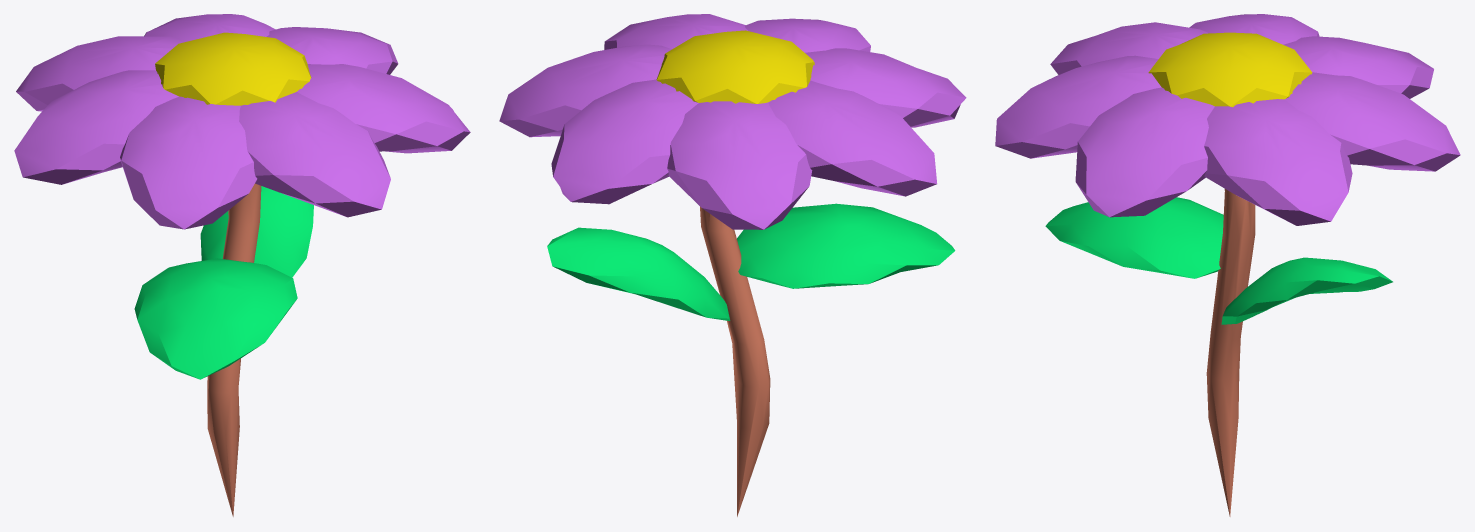
File: Flower.fbx
The picture shows the model from 3 angles, left to right: view 1: azimuth 30°, elevation 25°; view 2: azimuth 150°, elevation 25°; view 3: azimuth 270°, elevation 25°; orthographic projection.
Parts seen in each view (by area): view 1: Flower_LOD0; view 2: Flower_LOD0; view 3: Flower_LOD0.
Part boxes in pixels (x1=…): Flower_LOD0: x1=14, y1=14, x2=470, y2=516; Flower_LOD0: x1=499, y1=14, x2=966, y2=516; Flower_LOD0: x1=995, y1=14, x2=1460, y2=516.
Size of what is drawn, in the model's own units: 551 by 623 by 558.
